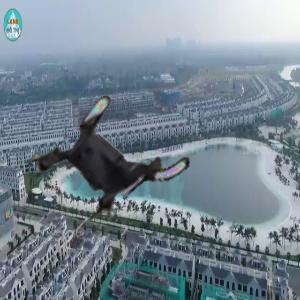drone: (40, 93, 181, 234)
